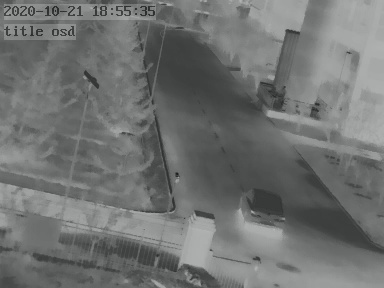vehicle: (232, 189, 287, 235)
